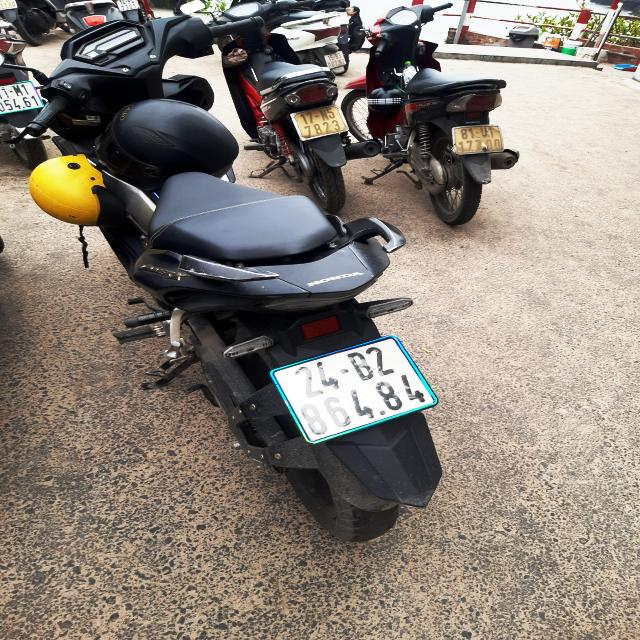license_plate: (266, 335, 439, 447)
